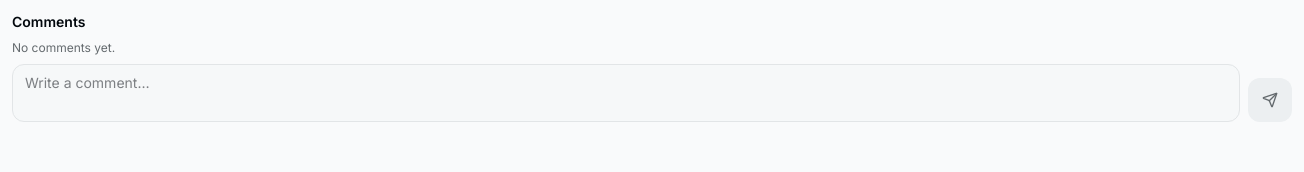
Scenario: IssueComments › keeps the text when sending fails
Expected: the text "No comments yet." is shown, [12,40,115,55]
In the text box labelled "Write a comment…": {"x": 626, "y": 93} [12,64,1240,122], type "Coba lagi"
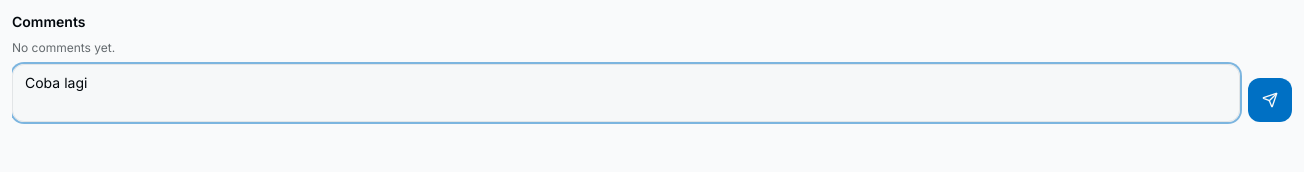
Click the button named "send": {"x": 1270, "y": 100} [1248,78,1292,122]
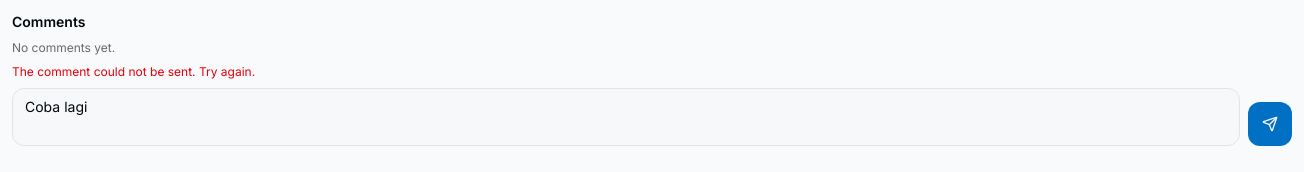
Result: the message "The comment could not be sent. Try again." is shown at [12,64,255,79]
